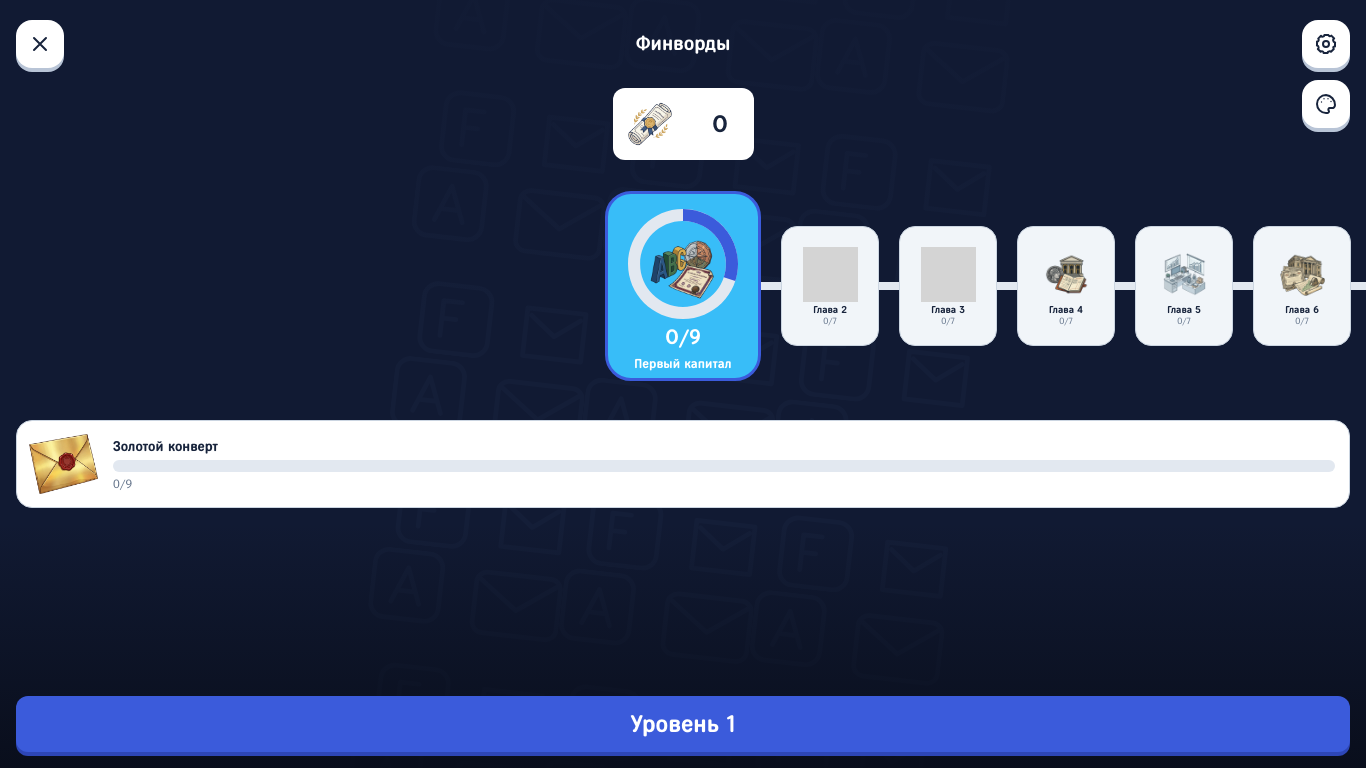
Scenario: P1 application shell › Остаться closes the exit dialog and keeps Home
Click the button named "Закрыть игру". click: coordinates (40, 44)
box: [16, 20, 64, 68]
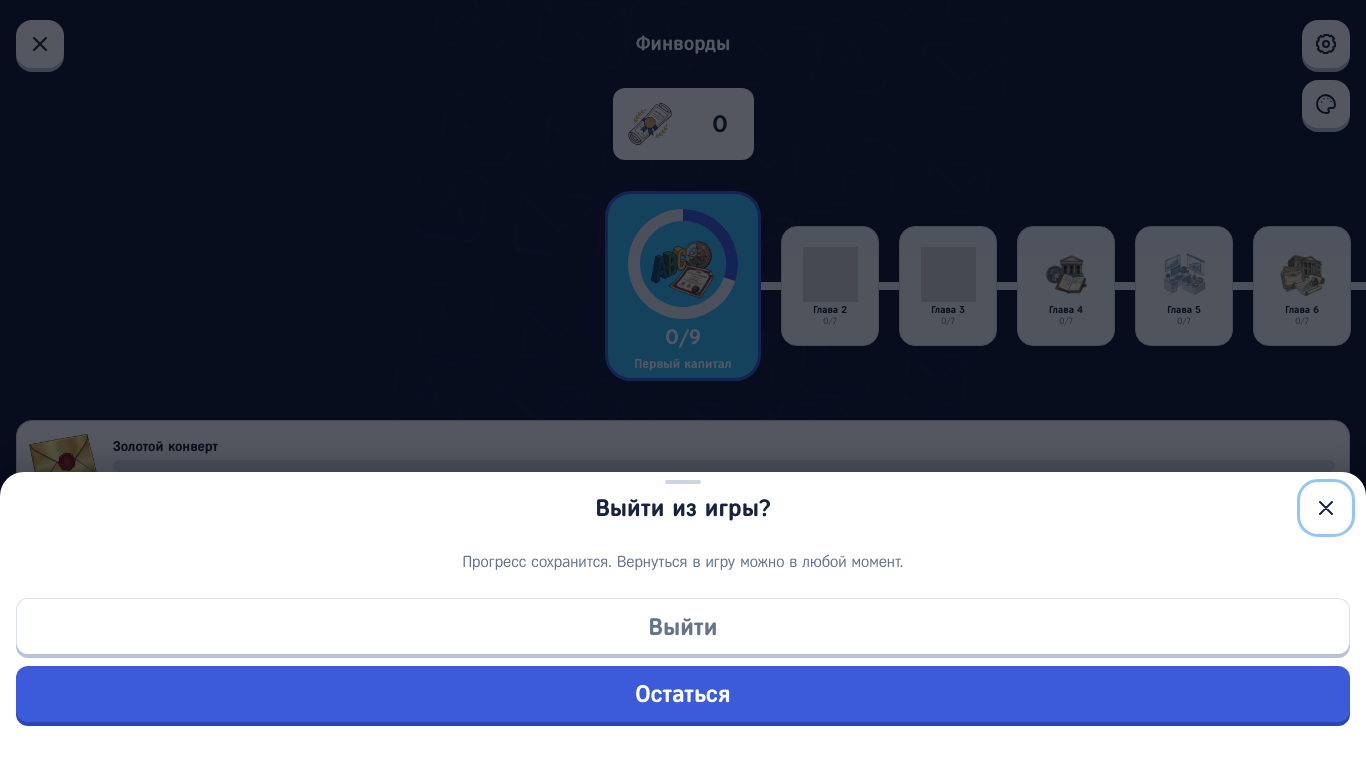
Click the button "Остаться". click: coordinates (683, 694)
box: [16, 666, 1350, 722]
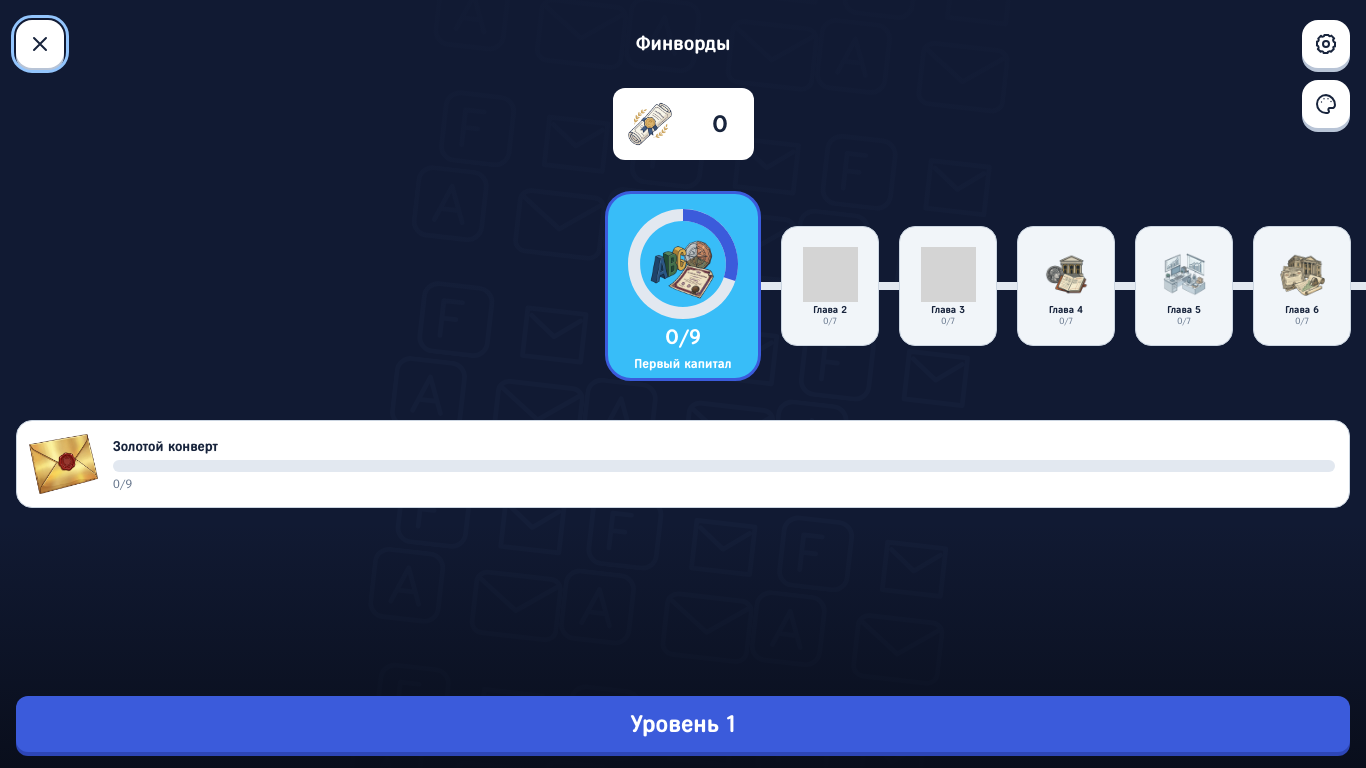
Expected: the heading "Выйти из игры?" is gone
